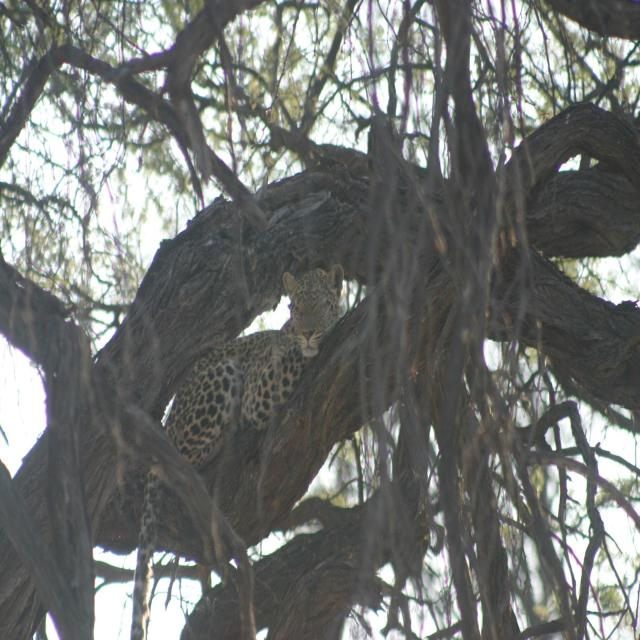Leopard: (125, 263, 340, 635)
